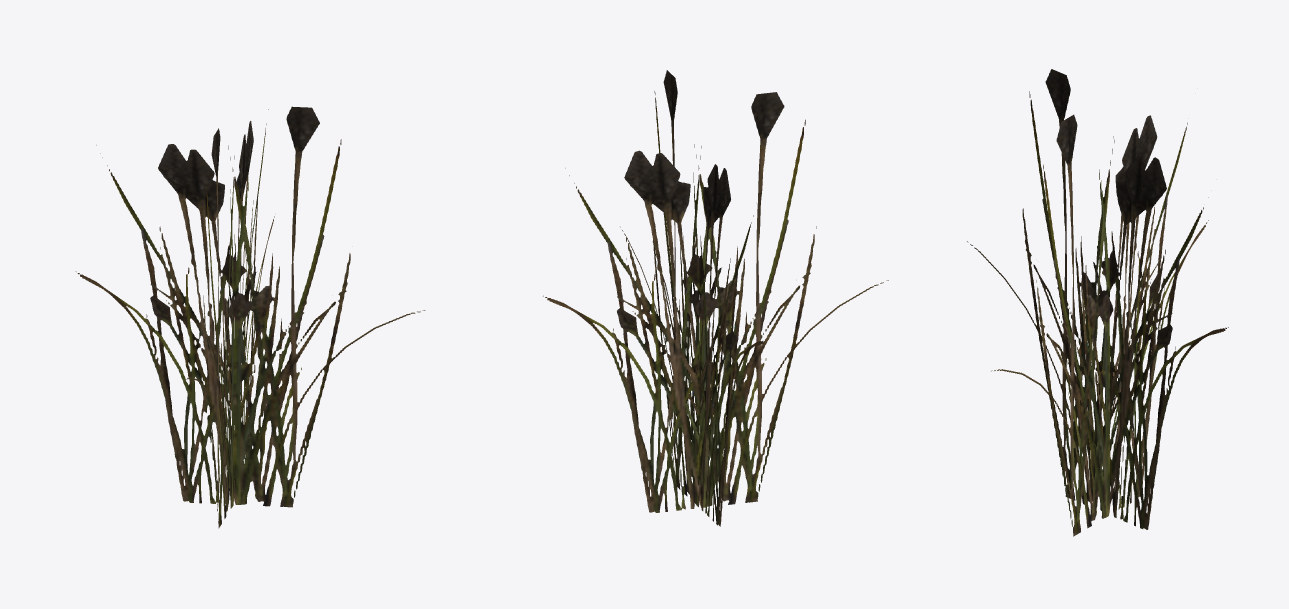
The model's file is Grass_Large_3.fbx.
3 views of the same model, side by side, from view 1: azimuth 30°, elevation 25°; view 2: azimuth 150°, elevation 25°; view 3: azimuth 270°, elevation 25° (orthographic). The views are drawn at different scales.
Parts seen in each view (by area): view 1: Grama5; view 2: Grama5; view 3: Grama5.
Boxes of the visible parts, bbox=[...] form: Grama5: bbox=[75, 106, 425, 528]; Grama5: bbox=[543, 70, 888, 526]; Grama5: bbox=[967, 69, 1228, 536].
Bounding box in the file's own units: 95.23 × 118 × 83.23.
